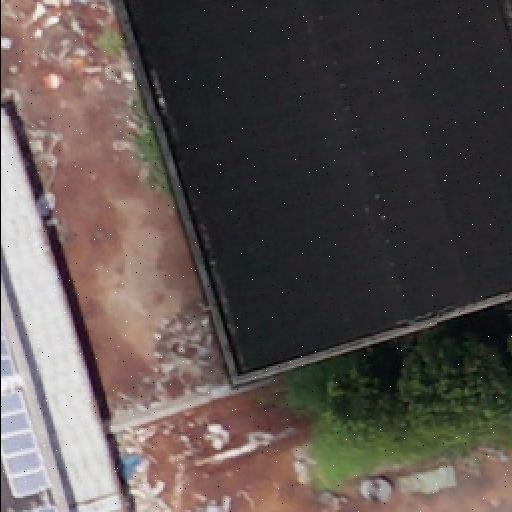solar-panel: (0, 389, 48, 499), (0, 319, 16, 377), (31, 504, 57, 512)
